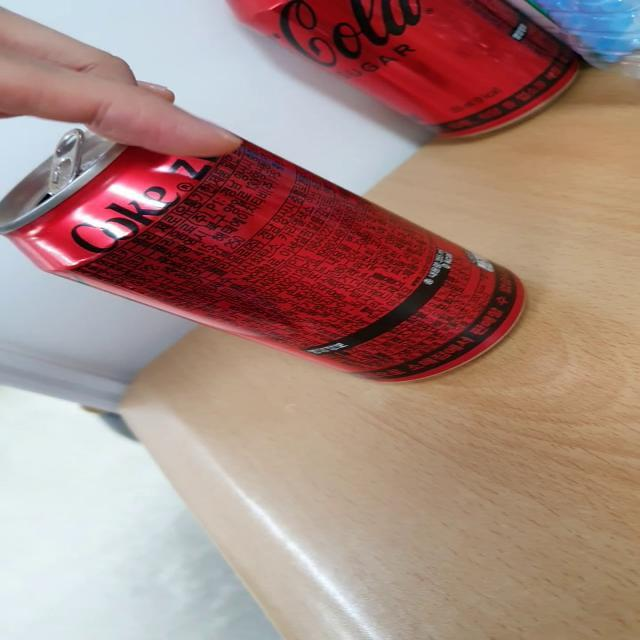coca-cola: (6, 108, 558, 392), (228, 3, 614, 139)
